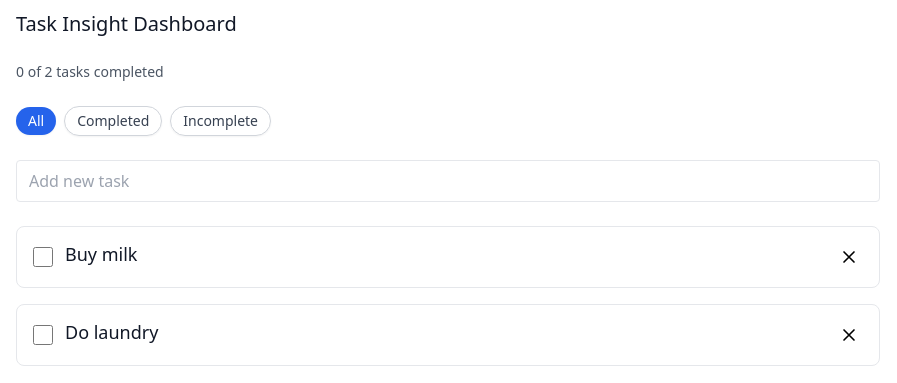
it: <App /> › task title editing › blurring the input saves the updated task title
The image size is (897, 383).
Enter edit mode
Click the heading "Buy milk" at (101, 254), box [65,242,137,266]
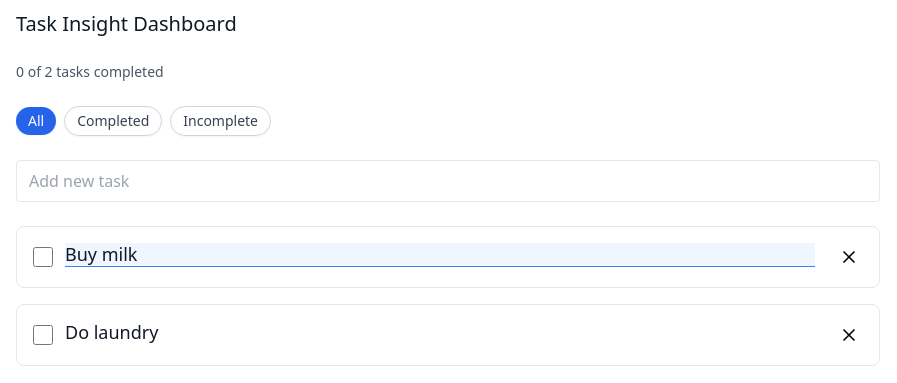
Action: change value
Replace the text in the field named "Edit task title" with "Buy oat milk" at (440, 255), box [65,243,815,266]
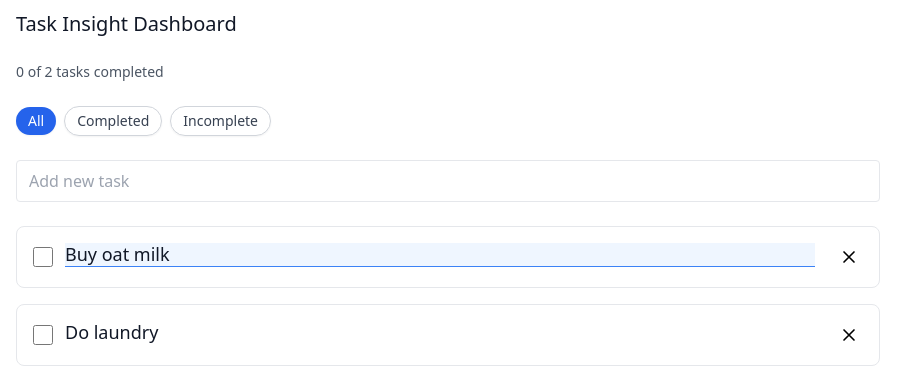
Blur the input (simulate clicking elsewhere)
Press Tab
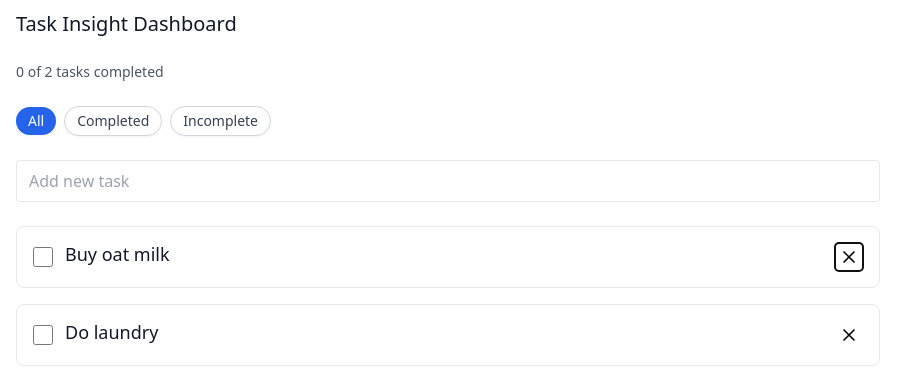
Now the heading "Buy oat milk" is shown, box [65,242,170,266]
